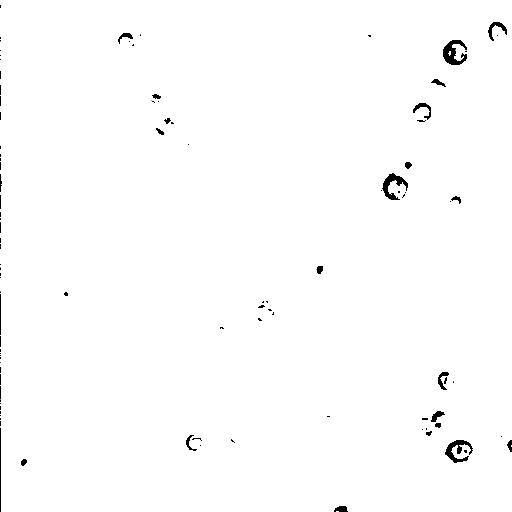micro-algae: (145, 1, 245, 56), (367, 52, 437, 121), (423, 455, 497, 511), (19, 237, 76, 295), (367, 6, 411, 53), (428, 57, 472, 103), (339, 67, 377, 105), (11, 441, 45, 480), (130, 21, 162, 53), (146, 109, 177, 141), (173, 131, 203, 163), (379, 171, 409, 202), (116, 338, 148, 367), (306, 252, 335, 283), (441, 37, 470, 68), (490, 414, 511, 455), (356, 17, 383, 47), (394, 149, 421, 179), (441, 438, 473, 463), (252, 301, 281, 325), (1, 79, 22, 111), (420, 77, 448, 101), (51, 283, 75, 310), (216, 436, 240, 461), (489, 18, 509, 44), (412, 101, 433, 124), (412, 419, 437, 438), (92, 271, 113, 291), (437, 371, 455, 392), (249, 499, 282, 510), (117, 32, 136, 51), (0, 168, 13, 195), (187, 433, 202, 451), (447, 195, 462, 211), (432, 411, 447, 427), (331, 502, 349, 512), (507, 438, 512, 454)
